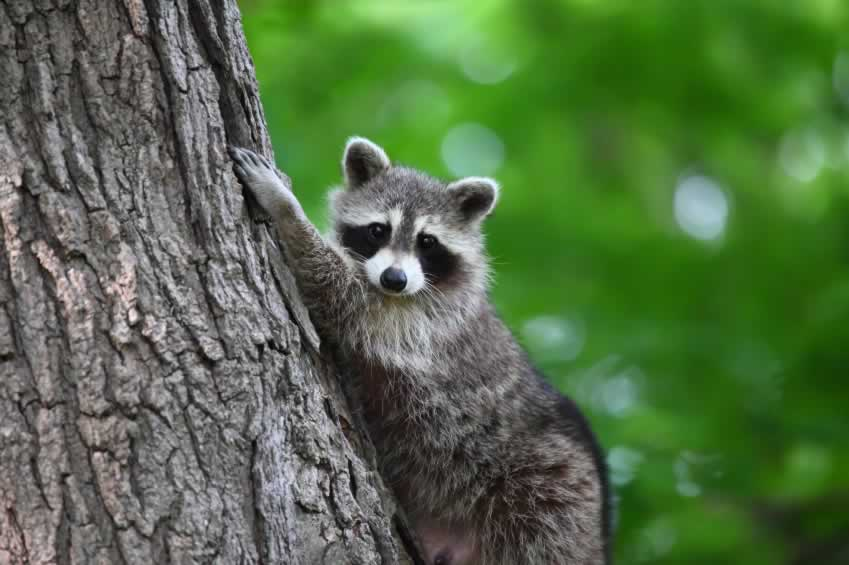raccoon: (231, 124, 633, 565)
